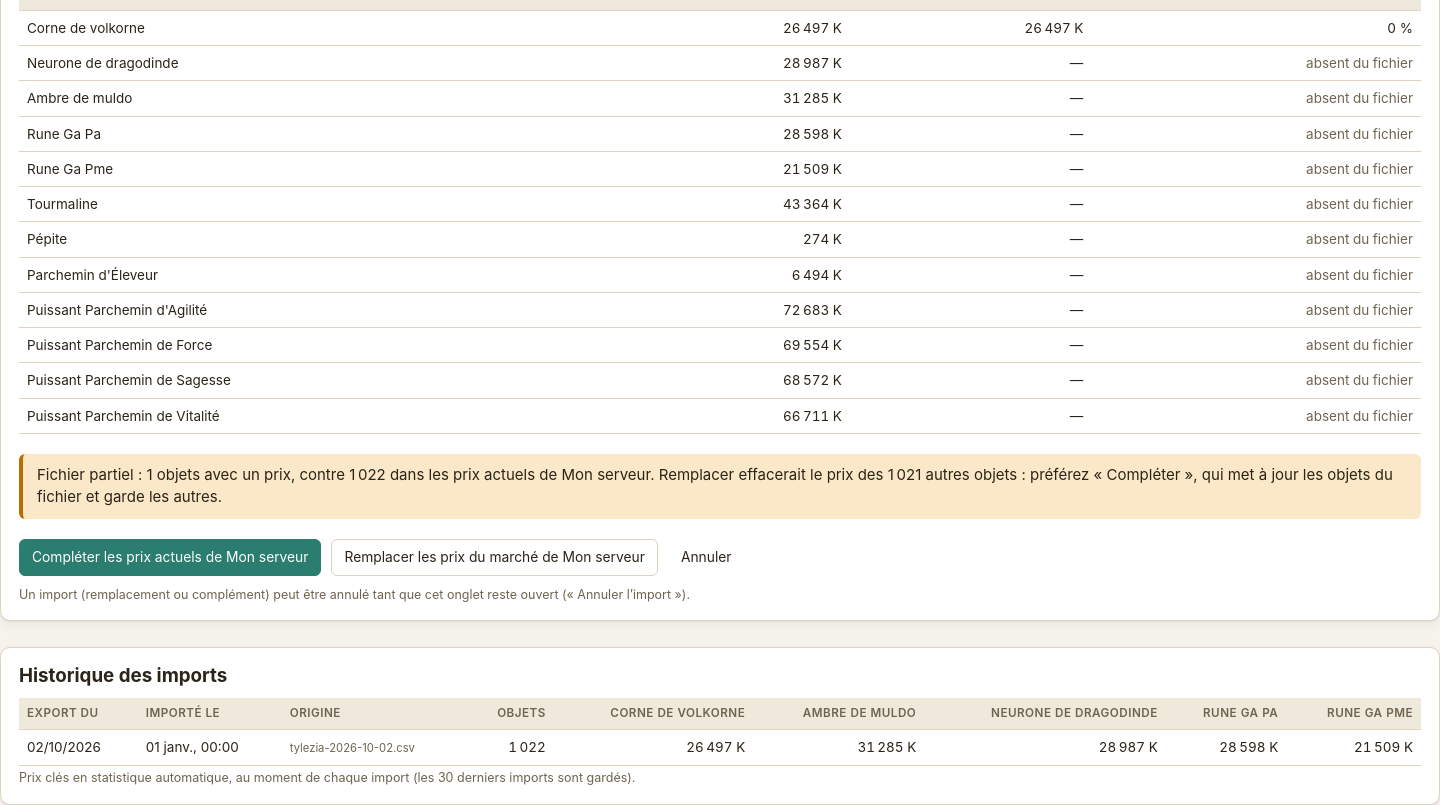
Test: import d’un export HDV › MKT-12 : fichier partiel → avertissement et confirmation avant de remplacer ; « Compléter » garde les autres objets ; import annulable
Earlier steps of the test are not shown.
Later steps or results of the test are not shown.
(page scrolled)
Expected: the text "Fichier partiel : 1 objets avec un prix" is shown, [19,454,1421,519]
Click the button "Remplacer les prix du marché de Mon serveur" at (495, 557), box [332,539,658,576]
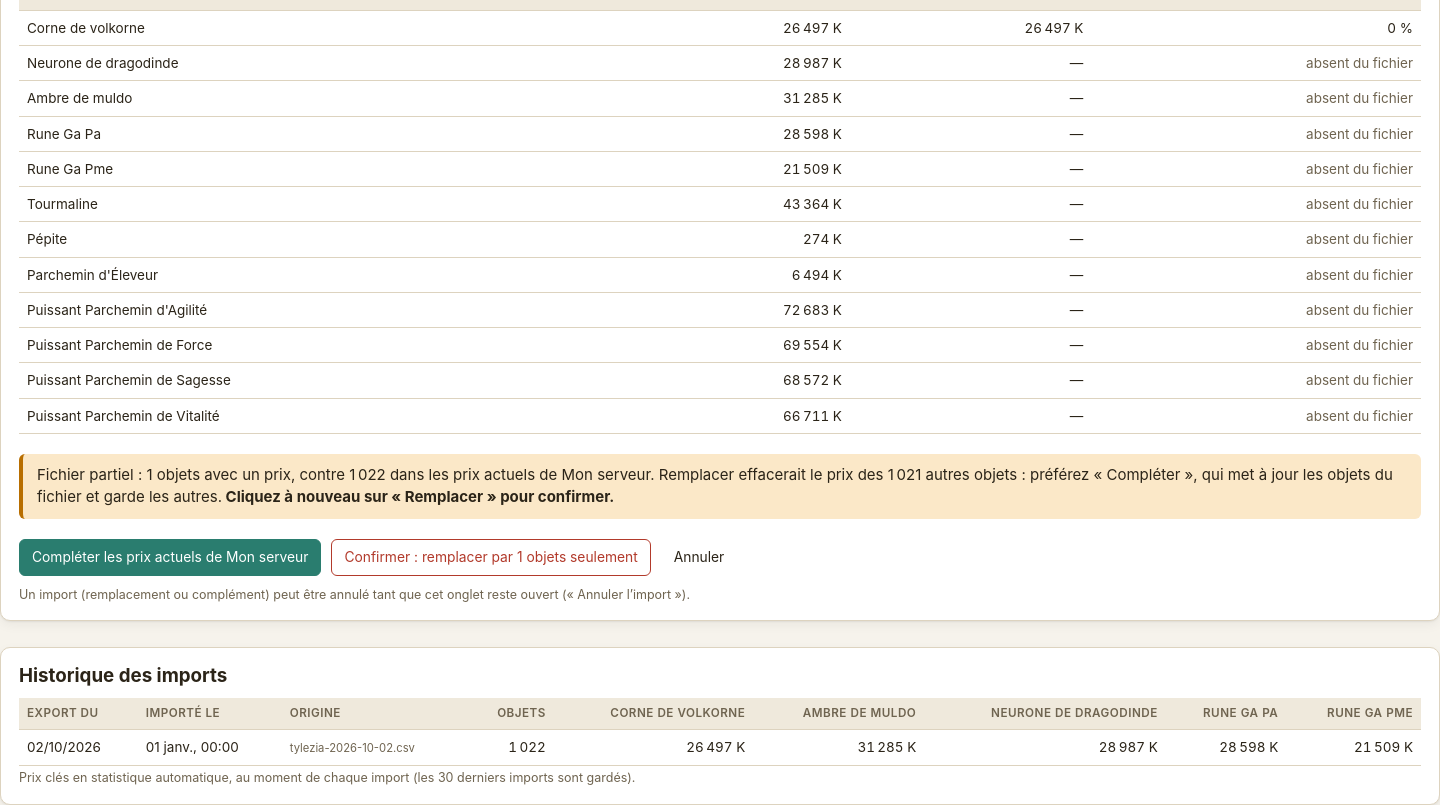
Result: the button "Confirmer : remplacer par 1 objets seulement" is shown at [332,539,651,576]
